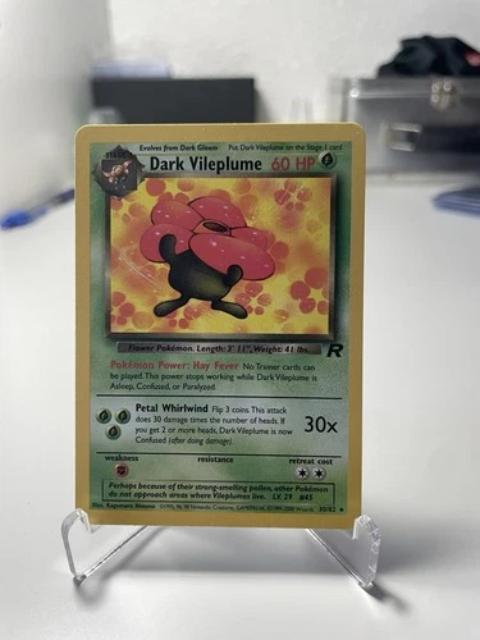Card: (69, 117, 368, 532)
Name: (143, 152, 261, 174)
